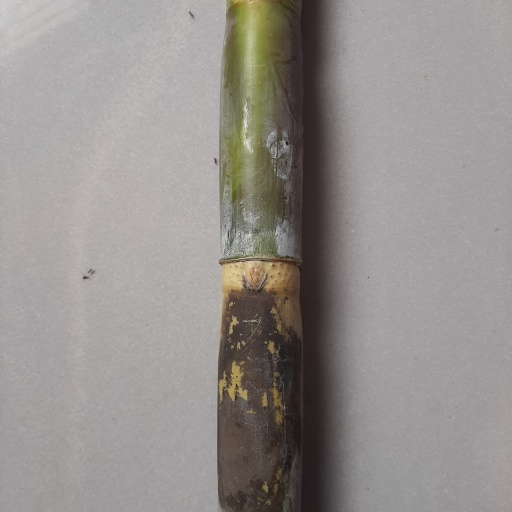Bud: (239, 261, 268, 291)
